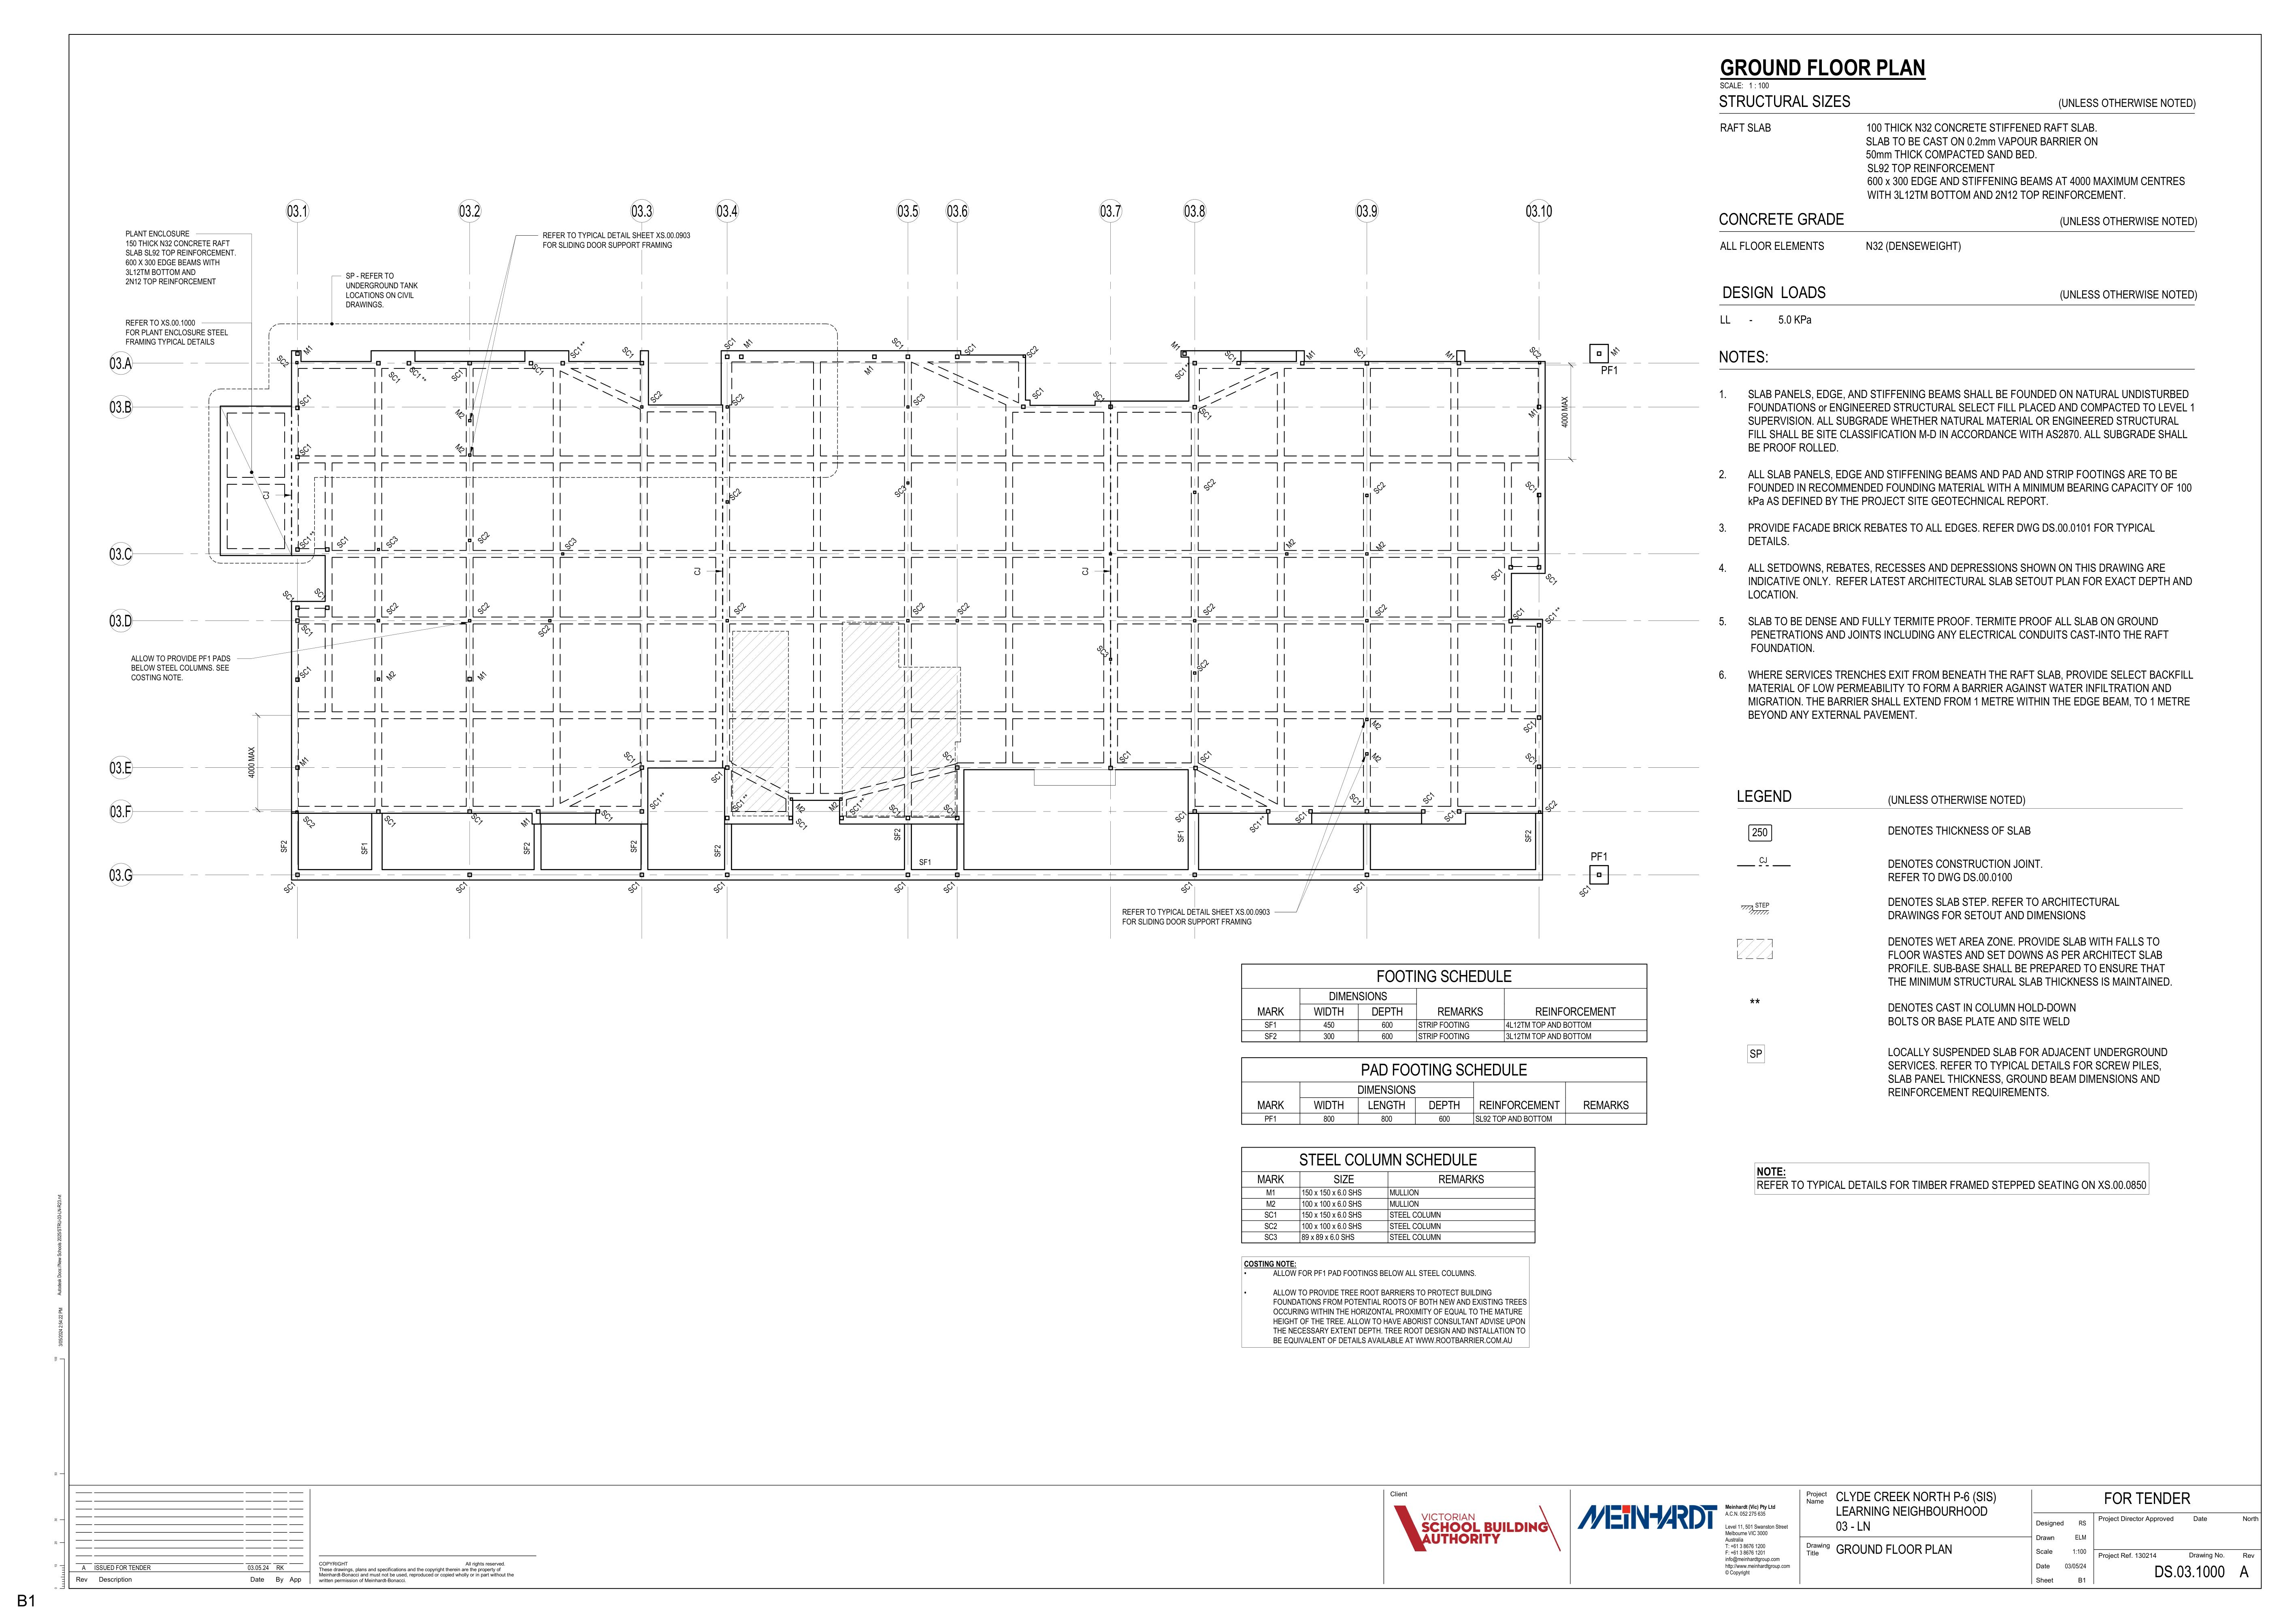M1: (1440, 343, 1458, 360), (1525, 404, 1541, 420), (861, 364, 877, 378), (302, 343, 316, 357), (474, 669, 488, 683), (1611, 344, 1625, 358), (743, 337, 757, 350), (297, 755, 311, 768), (1305, 348, 1318, 360), (520, 817, 532, 829), (1170, 339, 1182, 350)
M2: (1284, 537, 1298, 552), (1374, 539, 1390, 552), (385, 669, 399, 682), (1372, 718, 1384, 732), (796, 801, 808, 813), (455, 406, 466, 420), (1372, 752, 1383, 766), (453, 443, 466, 453), (829, 799, 840, 812)
PF1: (1585, 845, 1614, 864), (1599, 364, 1623, 378)
SC1: (448, 880, 474, 896), (1165, 806, 1188, 824), (933, 748, 957, 764), (1114, 745, 1133, 764), (1351, 878, 1372, 896), (1520, 476, 1539, 494), (1289, 806, 1309, 824), (281, 878, 302, 894), (889, 880, 910, 896), (385, 813, 402, 831), (627, 878, 645, 896), (1509, 601, 1525, 620), (1351, 344, 1368, 360), (1544, 571, 1560, 588), (1179, 880, 1195, 898), (1578, 882, 1593, 899), (385, 369, 401, 385), (450, 369, 466, 385), (1544, 611, 1560, 627), (1521, 718, 1537, 734), (710, 769, 726, 785), (471, 812, 487, 827), (1172, 367, 1189, 381), (297, 666, 314, 680), (943, 801, 957, 819), (729, 797, 747, 812), (622, 748, 636, 766), (711, 880, 729, 894), (940, 882, 957, 896), (299, 392, 313, 408), (891, 335, 906, 350), (1031, 385, 1045, 400), (1091, 388, 1107, 402), (297, 534, 311, 550), (281, 590, 295, 606), (313, 585, 327, 601), (1423, 792, 1439, 806), (650, 796, 664, 812), (601, 806, 615, 822), (887, 804, 905, 817), (622, 344, 636, 358), (1223, 350, 1237, 364), (1200, 750, 1214, 764), (1351, 792, 1365, 806), (848, 803, 863, 817), (963, 343, 978, 355), (300, 624, 313, 639), (1491, 566, 1504, 580), (337, 536, 350, 550), (1525, 752, 1537, 766), (1247, 820, 1261, 833), (1444, 808, 1456, 822), (794, 820, 810, 831), (299, 441, 311, 453), (532, 364, 545, 376), (571, 346, 583, 358), (1202, 408, 1214, 420), (724, 335, 734, 350), (409, 365, 420, 378)
SC2: (1195, 657, 1216, 674), (1541, 799, 1565, 813), (1200, 599, 1219, 617), (1372, 478, 1388, 499), (385, 601, 406, 617), (648, 386, 666, 404), (1527, 343, 1544, 360), (1202, 476, 1217, 494), (957, 599, 973, 617), (729, 485, 743, 504), (731, 599, 750, 613), (300, 817, 320, 831), (476, 530, 492, 546), (476, 599, 492, 615), (538, 624, 553, 639), (272, 355, 290, 369), (1028, 343, 1042, 360), (912, 599, 926, 617), (733, 393, 747, 408), (1375, 602, 1388, 617)
SC3: (560, 532, 580, 552), (910, 390, 928, 408), (1093, 641, 1110, 657), (385, 534, 399, 552), (894, 481, 906, 497)
SF1: (917, 854, 936, 868), (358, 841, 372, 859), (1175, 829, 1188, 845)
SF2: (625, 838, 641, 859), (520, 841, 536, 859), (1521, 826, 1535, 845), (710, 845, 726, 859), (278, 838, 290, 854), (892, 826, 905, 841)
